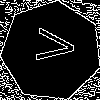V: (26, 26, 76, 65)
